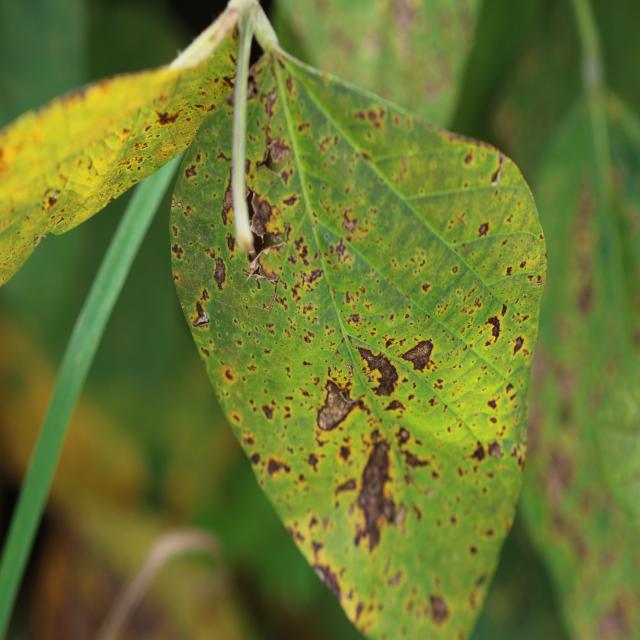Bacterial_Blight: (354, 439, 396, 552), (355, 345, 401, 398), (316, 379, 361, 432), (404, 332, 441, 390), (226, 64, 260, 108), (289, 266, 323, 307), (315, 563, 344, 602), (249, 196, 274, 239), (254, 159, 288, 183), (327, 235, 353, 266), (221, 169, 237, 216), (261, 276, 281, 313), (266, 137, 291, 166), (257, 231, 286, 256), (401, 445, 431, 469), (292, 235, 315, 263), (429, 592, 449, 624), (356, 106, 385, 128), (255, 263, 280, 288), (265, 455, 292, 477), (190, 300, 210, 328), (261, 85, 278, 117), (212, 255, 227, 291), (341, 208, 361, 235), (246, 57, 265, 85), (490, 152, 506, 185), (485, 315, 502, 344), (242, 265, 264, 287), (244, 188, 258, 222), (301, 267, 324, 286), (334, 477, 356, 496), (356, 346, 378, 365), (510, 443, 526, 468), (469, 441, 487, 463), (487, 440, 504, 459), (306, 452, 320, 473), (339, 441, 353, 462), (397, 154, 408, 179), (223, 87, 236, 108), (282, 192, 300, 207), (261, 403, 276, 420), (396, 426, 411, 443), (512, 335, 524, 356), (225, 232, 235, 255), (171, 243, 184, 260), (184, 164, 198, 179), (477, 221, 489, 237), (171, 197, 184, 211), (223, 368, 235, 382), (463, 150, 474, 165), (343, 363, 354, 378), (247, 247, 258, 262), (250, 451, 260, 466), (487, 397, 498, 410), (349, 313, 361, 324), (231, 412, 242, 424), (199, 346, 210, 357), (421, 281, 431, 293), (500, 303, 508, 317), (469, 544, 478, 556), (232, 26, 239, 41), (505, 266, 514, 276), (301, 272, 309, 283), (519, 260, 527, 269), (533, 280, 543, 287), (387, 316, 394, 325), (536, 274, 542, 284), (302, 360, 312, 366), (244, 296, 249, 302)
Soybean: (0, 2, 548, 640)
